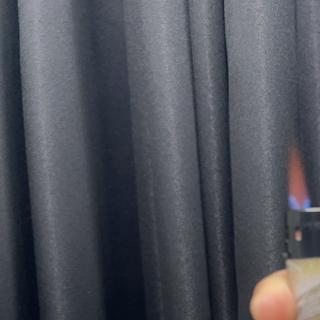fire: (288, 144, 312, 212)
